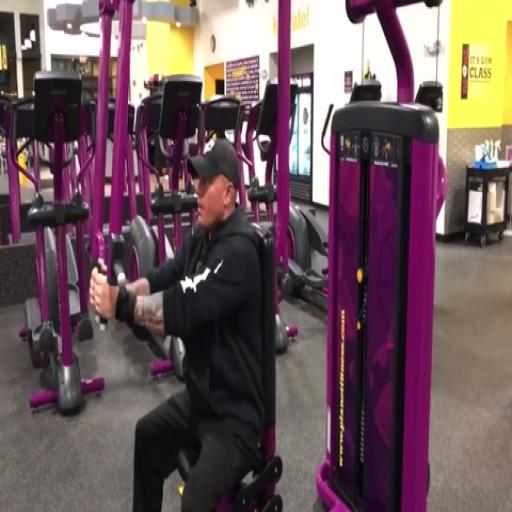exercise: (86, 136, 273, 510)
